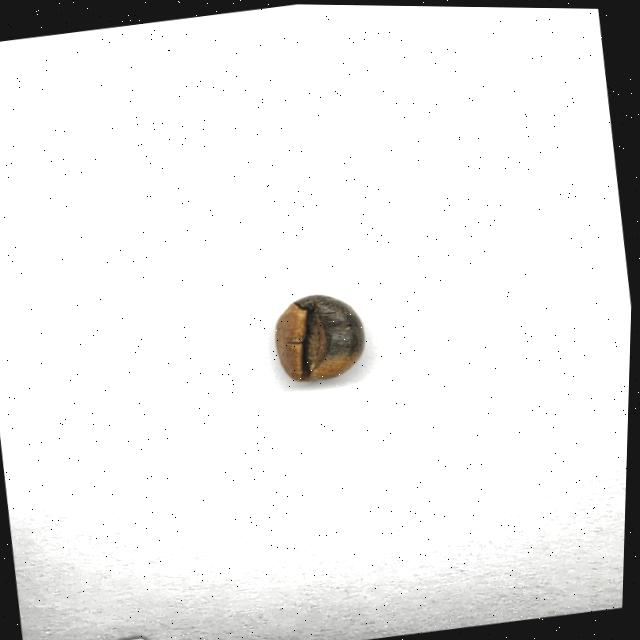Scorched: (273, 288, 371, 384)
